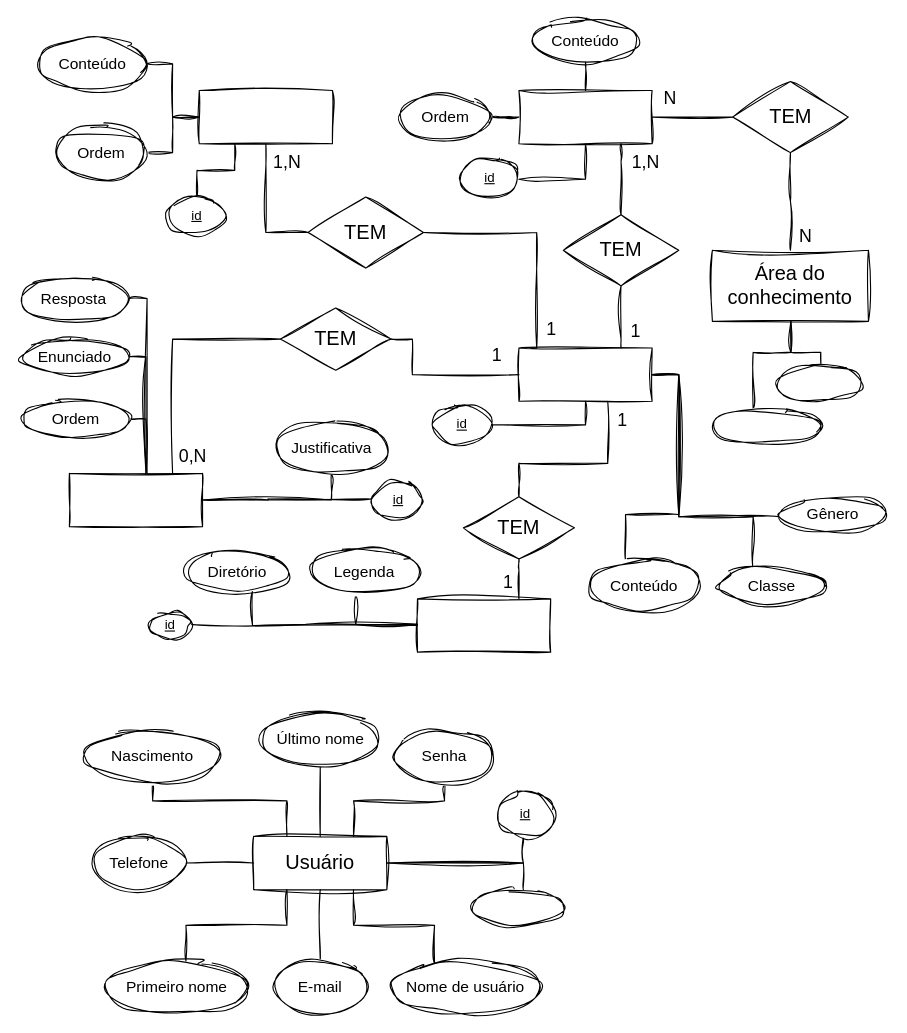
Some shapes in this 907 by 1033 pixel diagram are drawn without their labels. Each missing label, with the centre of its shape:
Definição: [585,116]
disciplina: [766,425]
Imagem: [483,625]
nome: [820,383]
Papel: [516,907]
Questão: [135,499]
Sílaba: [265,116]
Termo: [585,374]
